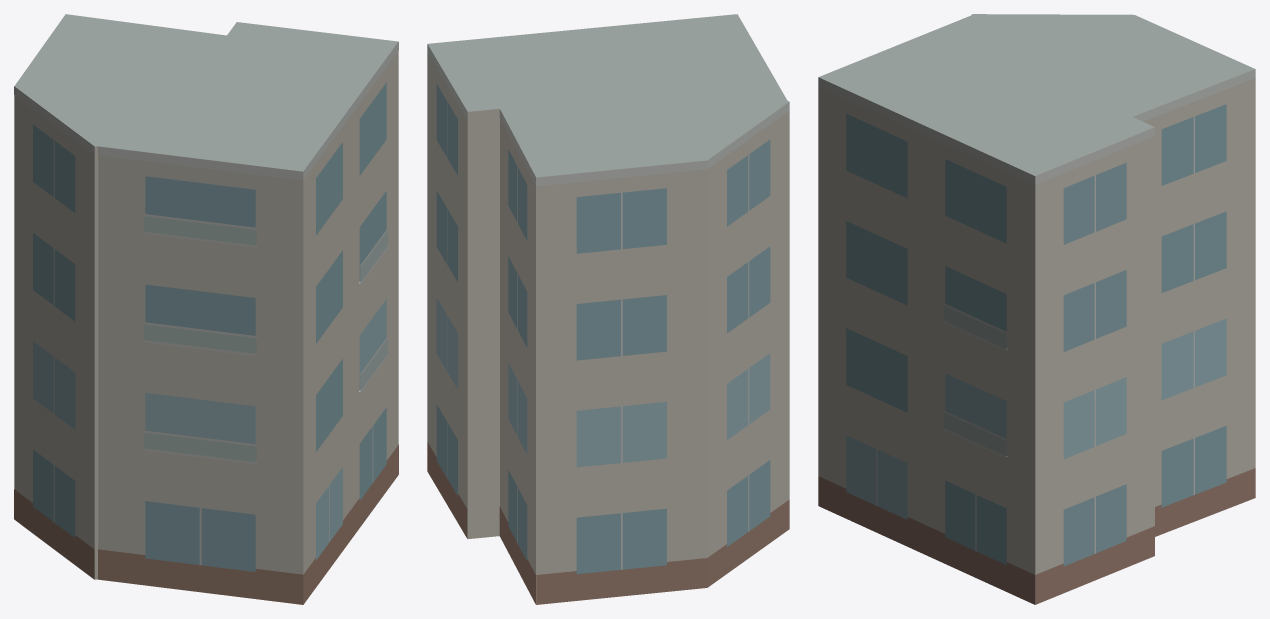
The model's file is survey-upis-32909526.glb.
3 renders of one model, left to right at view 1: azimuth 30°, elevation 25°; view 2: azimuth 150°, elevation 25°; view 3: azimuth 270°, elevation 25°, orthographic.
Parts seen in each view (by area): view 1: survey-upis-32909526.tmp; view 2: survey-upis-32909526.tmp; view 3: survey-upis-32909526.tmp.
Part boxes in pixels (x1,y1,x2,y2): survey-upis-32909526.tmp: (14,14,398,604); survey-upis-32909526.tmp: (427,14,789,604); survey-upis-32909526.tmp: (818,14,1255,604).
Bounding box in the file's own units: 9.66 × 11.9 × 11.01.
